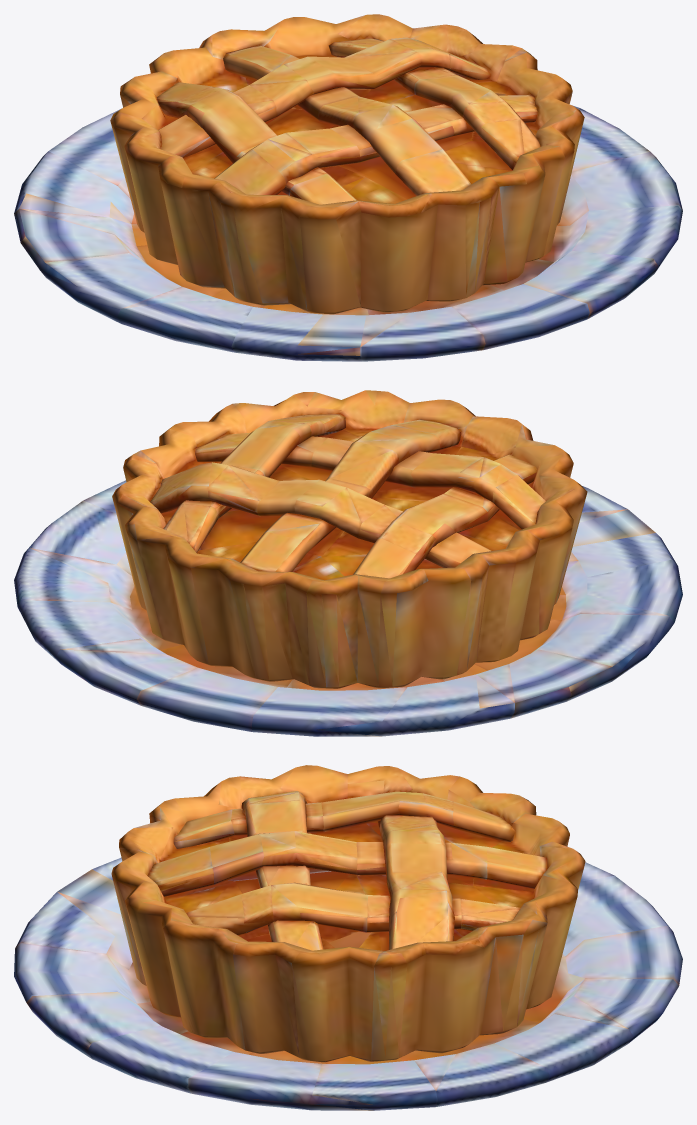
File: item-honeyTart.glb
3 renders of one model, top to bottom at view 1: azimuth 30°, elevation 25°; view 2: azimuth 150°, elevation 25°; view 3: azimuth 270°, elevation 25°, orthographic.
Size of the model in its own units: 0.9565 by 0.2666 by 0.9556.
1 material, 1 textured.
